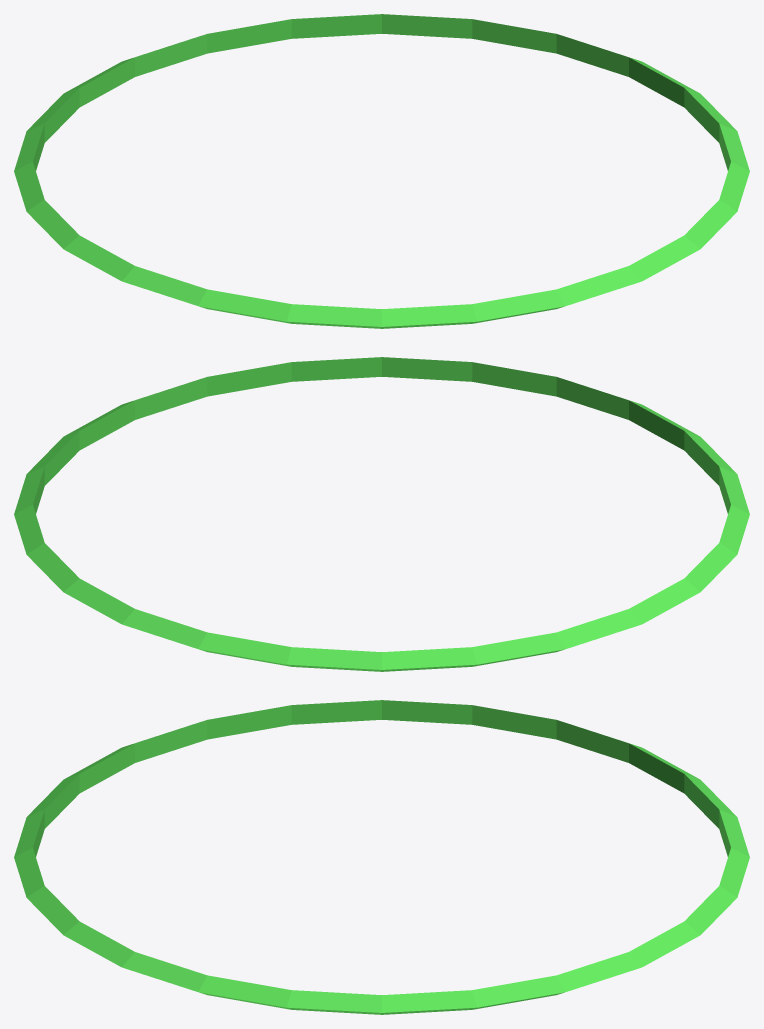
File: SelectBox.fbx
3 renders of one model, top to bottom at view 1: azimuth 30°, elevation 25°; view 2: azimuth 150°, elevation 25°; view 3: azimuth 270°, elevation 25°, orthographic.
Visible parts, largest first — view 1: Torus.001; view 2: Torus.001; view 3: Torus.001.
Boxes of the visible parts, x1,y1,x2,y2 form: Torus.001: [14, 14, 749, 328]; Torus.001: [14, 357, 749, 671]; Torus.001: [14, 700, 749, 1014].
Bounding box in the file's own units: 760 × 22.52 × 760.
